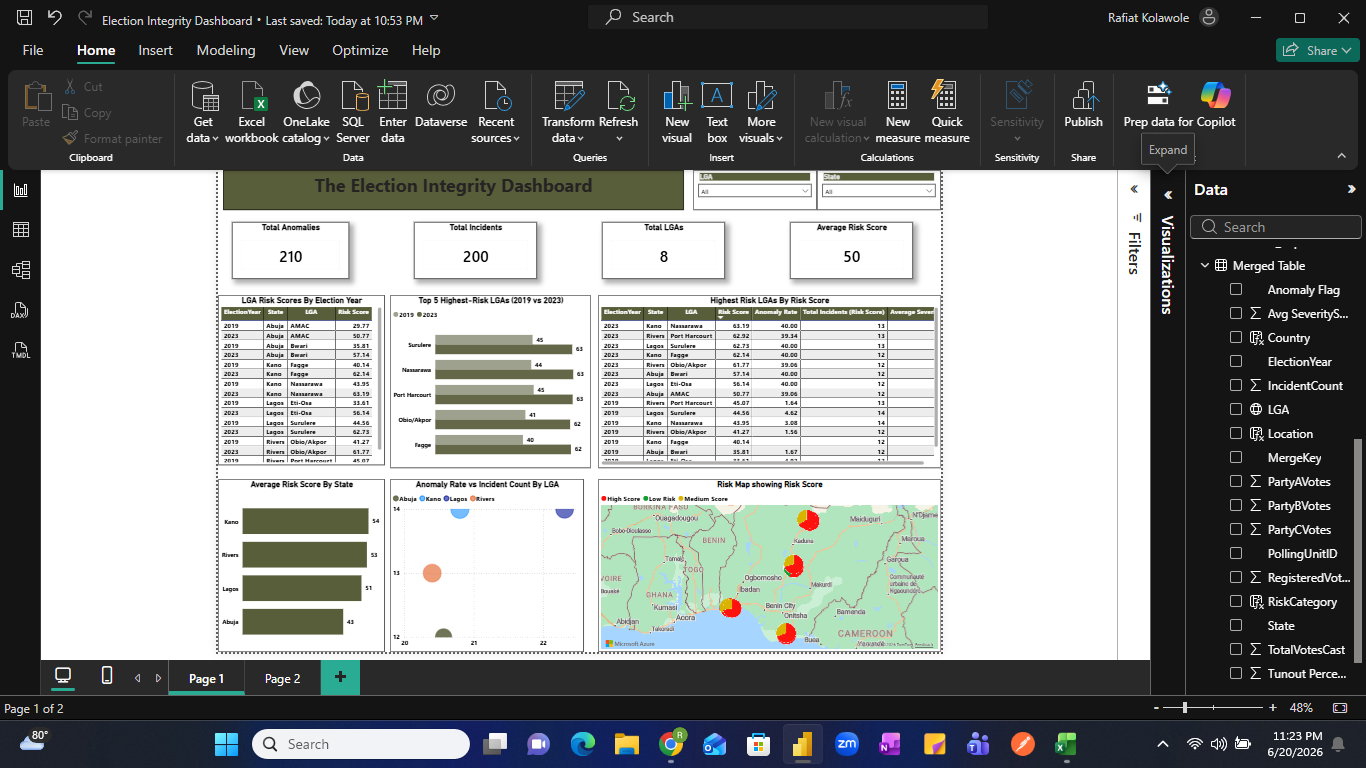

The page's visual inventory and layout, read from the dashboard file:
{"tool":"powerbi","page":{"name":"Page 1","canvas":[1500,1000],"ordinal":0},"visuals":[{"type":"scatterChart","title":"Anomaly Rate vs Incident Count By LGA","fields":{"X":["Dax.Anomaly Rate"],"Y":["Dax.Total Incidents (Risk Score)"],"Size":["Dax.Risk Score"],"Series":["Merged Table.State"]},"box":[356.8,641.1,402.5,358.9],"z":0},{"type":"tableEx","title":"Highest Risk LGAs By Risk Score","fields":{"Values":["Merged Table.ElectionYear","Merged Table.State","Merged Table.LGA","Dax.Risk Score","Dax.Anomaly Rate","Dax.Total Incidents (Risk Score)","Dax.Average Severity"]},"box":[788.4,259.3,711.6,358.9],"z":1000},{"type":"textbox","box":[10.4,0,956.4,83],"z":2000},{"type":"cardVisual","title":"Total Anomalies","fields":{"Data":["Dax.Anomalous Polling Units"]},"box":[29,107.9,242.7,118.3],"z":3000},{"type":"cardVisual","title":"Total Incidents","fields":{"Data":["Dax.Total Incidents"]},"box":[406.6,107.9,255.2,118.3],"z":4000},{"type":"cardVisual","title":"Average Risk Score","fields":{"Data":["Dax.High Risk LGAs"]},"box":[1186.7,107.9,255.2,118.3],"z":5000},{"type":"cardVisual","title":"Total LGAs","fields":{"Data":["Dax.Max Risk Score"]},"box":[796.7,107.9,255.2,118.3],"z":6000},{"type":"tableEx","title":"LGA Risk Scores By Election Year","fields":{"Values":["Merged Table.ElectionYear","Merged Table.State","Merged Table.LGA","Dax.Risk Score"]},"box":[0,259.3,346.5,352.7],"z":7000},{"type":"clusteredBarChart","title":"Average Risk Score By State","fields":{"Y":["Dax.Risk Score"],"Category":["Merged Table.State"]},"box":[0,641.1,346.5,358.9],"z":8000},{"type":"clusteredBarChart","title":"Top 5 Highest-Risk LGAs (2019 vs 2023)","fields":{"Series":["Merged Table.ElectionYear"],"Category":["Merged Table.LGA"],"Y":["Dax.Risk Score"]},"box":[356.8,259.3,417,358.9],"z":9000},{"type":"azureMap","title":"Risk Map showing Risk Score","fields":{"Size":["Dax.Risk Score"],"Category":["Merged Table.Location"],"Series":["Merged Table.RiskCategory"]},"box":[788.4,641.1,711.6,358.9],"z":10000},{"type":"slicer","fields":{"Values":["Merged Table.LGA"]},"box":[985.5,0,257.3,83],"z":11000},{"type":"slicer","fields":{"Values":["Merged Table.State"]},"box":[1242.7,0,257.3,83],"z":12000}]}

Visuals, with their boxes on the page's 1500x1000 design canvas (x1, y1, x2, y2). These are canvas units, not pixel positions in the 1366x768 screenshot, which may show the page scaled, cropped or inside an application window:
"Anomaly Rate vs Incident Count By LGA" scatterChart: 357 641 759 1000
"Highest Risk LGAs By Risk Score" tableEx: 788 259 1500 618
textbox: 10 0 967 83
"Total Anomalies" cardVisual: 29 108 272 226
"Total Incidents" cardVisual: 407 108 662 226
"Average Risk Score" cardVisual: 1187 108 1442 226
"Total LGAs" cardVisual: 797 108 1052 226
"LGA Risk Scores By Election Year" tableEx: 0 259 346 612
"Average Risk Score By State" clusteredBarChart: 0 641 346 1000
"Top 5 Highest-Risk LGAs (2019 vs 2023)" clusteredBarChart: 357 259 774 618
"Risk Map showing Risk Score" azureMap: 788 641 1500 1000
slicer - Merged Table.LGA: 986 0 1243 83
slicer - Merged Table.State: 1243 0 1500 83
